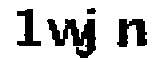1: (11, 6, 45, 53)
j: (81, 7, 101, 59)
n: (112, 13, 149, 48)
w: (45, 13, 87, 47)
